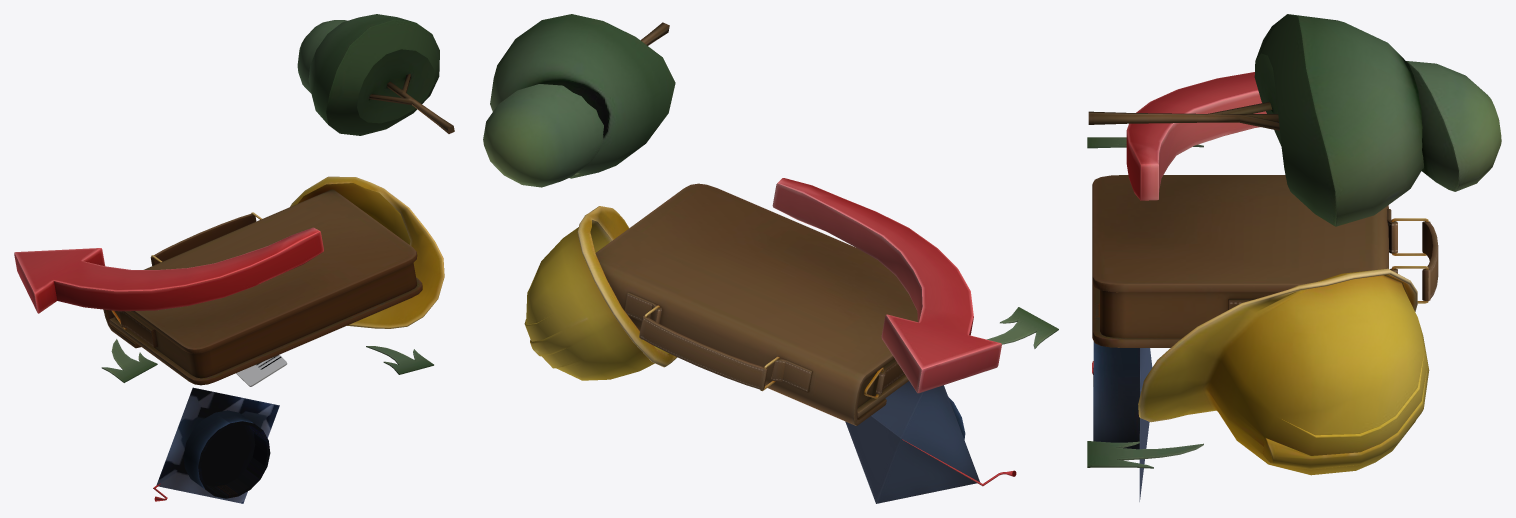
Rendered from work.glb.
3 renders of one model, left to right at view 1: azimuth 30°, elevation 25°; view 2: azimuth 150°, elevation 25°; view 3: azimuth 270°, elevation 25°, orthographic. The views are drawn at different scales.
Visible parts, largest first — view 1: EvolutionPro, Arbre_EvoPro; view 2: EvolutionPro, Arbre_EvoPro; view 3: EvolutionPro, Arbre_EvoPro.
Boxes of the visible parts, bbox=[...] form: EvolutionPro: bbox=[14, 176, 444, 503]; Arbre_EvoPro: bbox=[101, 14, 454, 382]; EvolutionPro: bbox=[524, 178, 1016, 503]; Arbre_EvoPro: bbox=[483, 14, 1058, 348]; EvolutionPro: bbox=[1092, 72, 1438, 501]; Arbre_EvoPro: bbox=[1087, 14, 1501, 468].
Size of the model in its own units: 1.14 by 1.04 by 0.6271.
2 materials, 2 textured.
